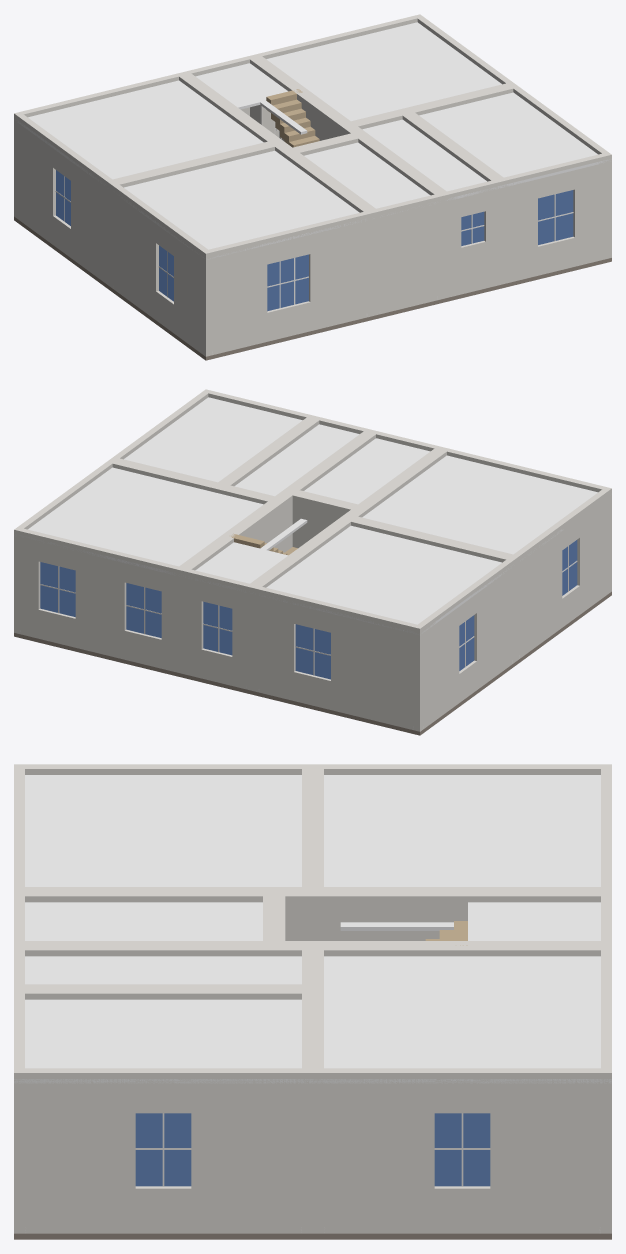
File: interior-second.glb
3 renders of one model, top to bottom at view 1: azimuth 30°, elevation 25°; view 2: azimuth 150°, elevation 25°; view 3: azimuth 270°, elevation 25°, orthographic. The views are drawn at different scales.
Visible parts, largest first — view 1: interior-second; view 2: interior-second; view 3: interior-second.
Part boxes in pixels (x1,y1,x2,y2): interior-second: (14, 14, 611, 360); interior-second: (14, 389, 611, 735); interior-second: (14, 764, 611, 1239).
Size of the model in its own units: 13.2 by 3.42 by 10.8.
